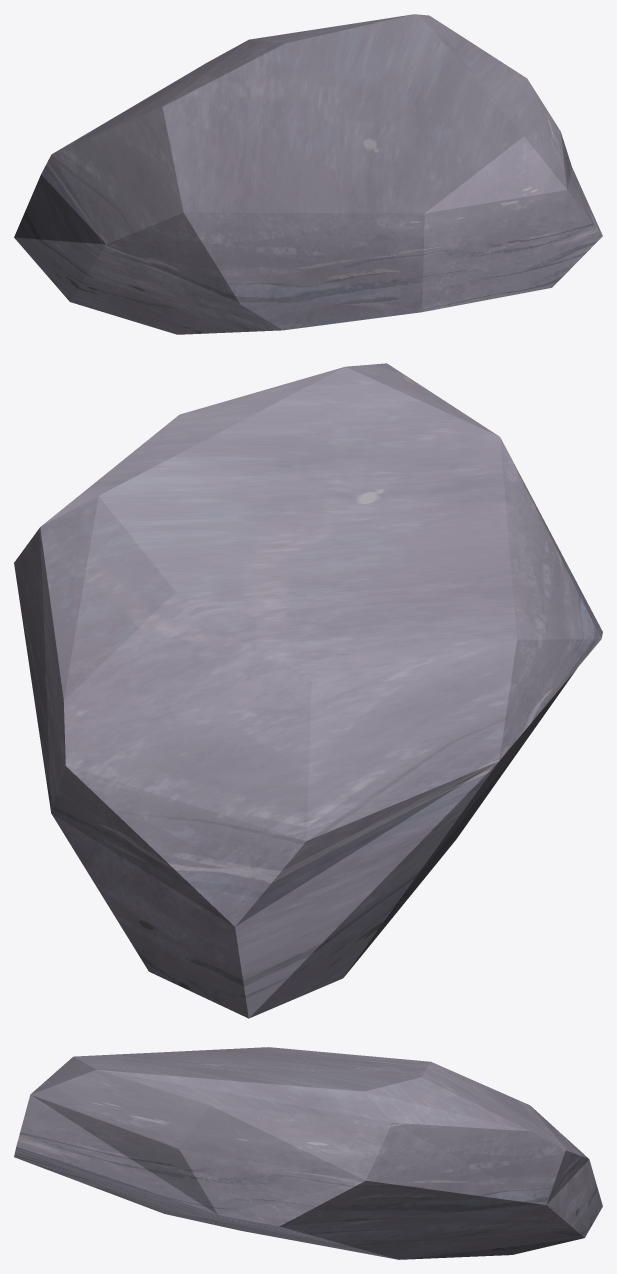
File: rock_2_014.fbx
The picture shows the model from 3 angles, top to bottom: view 1: azimuth 30°, elevation 25°; view 2: azimuth 150°, elevation 25°; view 3: azimuth 270°, elevation 25°; orthographic projection. The views are drawn at different scales.
Visible parts, largest first — view 1: rock 2.014; view 2: rock 2.014; view 3: rock 2.014.
Part boxes in pixels (x1,y1,x2,y2): rock 2.014: (14,14,602,334); rock 2.014: (14,363,602,1018); rock 2.014: (14,1047,602,1259).
Bounding box in the file's own units: 634 × 415 × 929.
